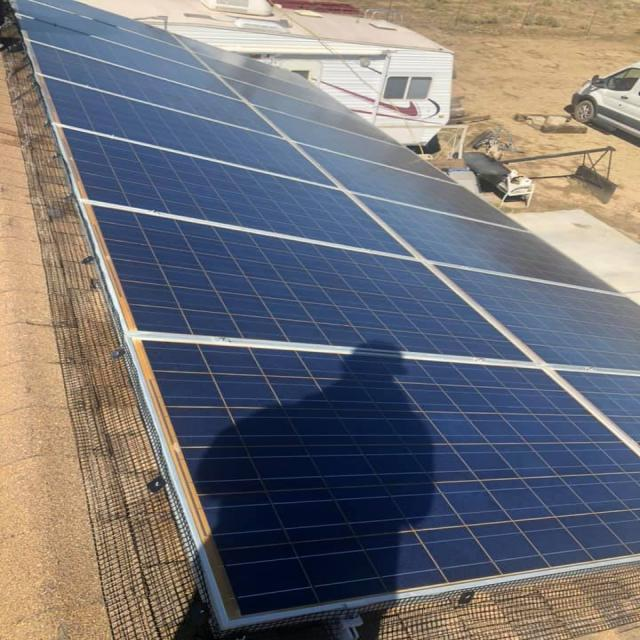clean-solar-panel: (13, 0, 637, 629)
